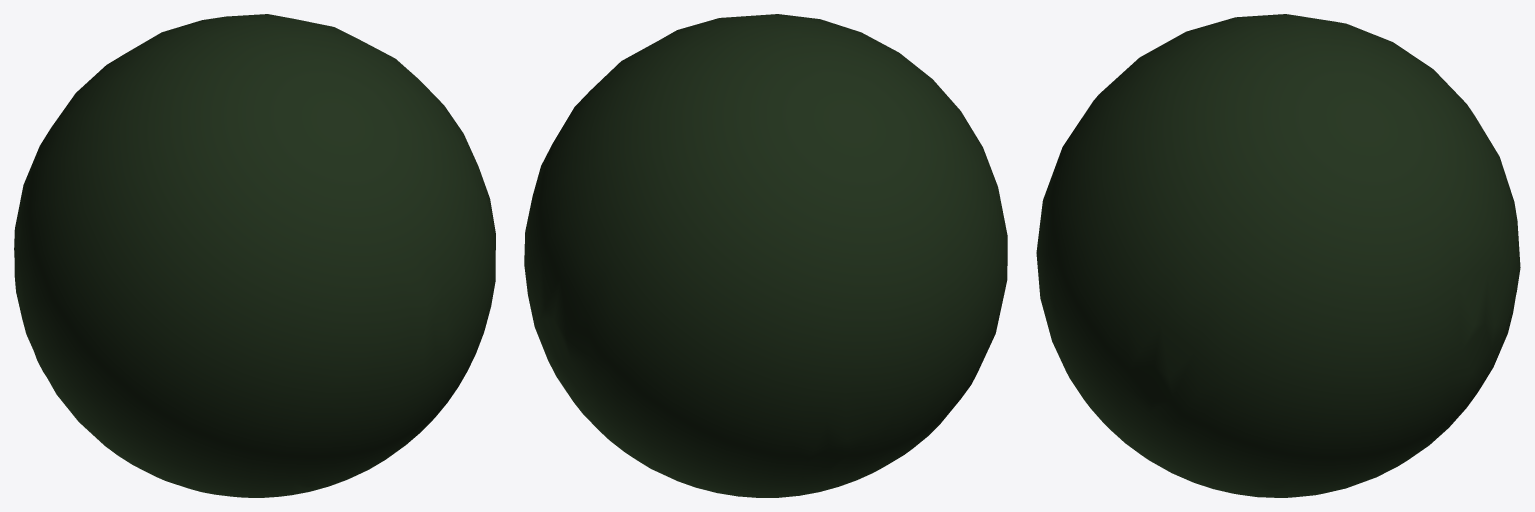
File: Spawner_eye.fbx
The picture shows the model from 3 angles, left to right: view 1: azimuth 30°, elevation 25°; view 2: azimuth 150°, elevation 25°; view 3: azimuth 270°, elevation 25°; orthographic projection.
Parts seen in each view (by area): view 1: SM_EyeSpawner; view 2: SM_EyeSpawner; view 3: SM_EyeSpawner.
Boxes of the visible parts, x1,y1,x2,y2 form: SM_EyeSpawner: [14, 14, 495, 497]; SM_EyeSpawner: [524, 14, 1007, 497]; SM_EyeSpawner: [1036, 14, 1520, 497].
Size of the model in its own units: 21.32 by 21.3 by 21.35.
